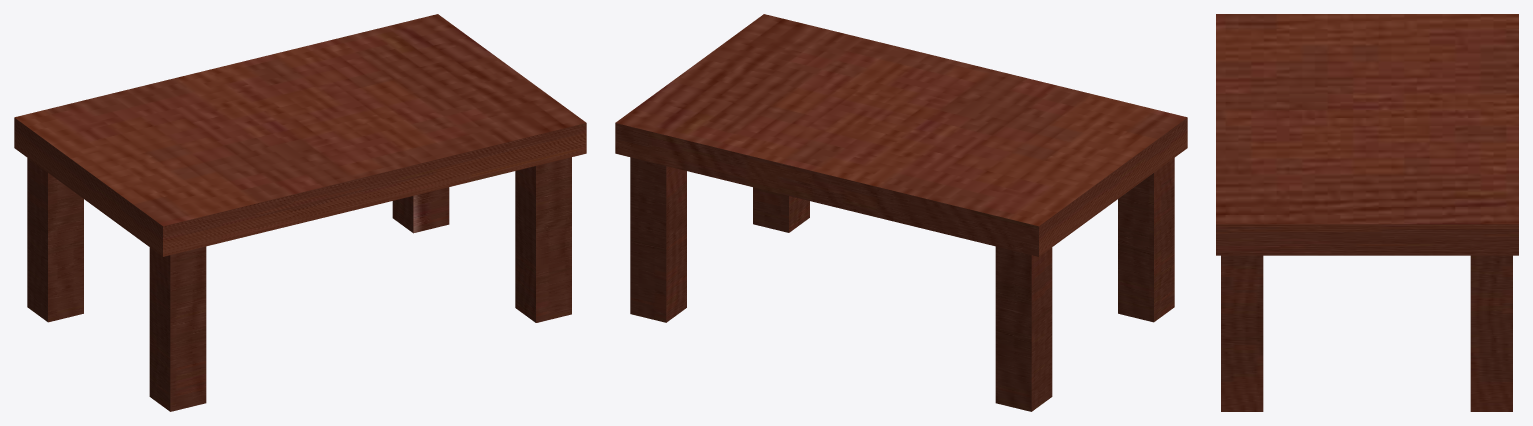
File: table.fbx
3 views of the same model, side by side, from view 1: azimuth 30°, elevation 25°; view 2: azimuth 150°, elevation 25°; view 3: azimuth 270°, elevation 25° (orthographic).
Visible parts, largest first — view 1: Table; view 2: Table; view 3: Table.
Boxes of the visible parts, x1,y1,x2,y2 form: Table: [14, 14, 586, 411]; Table: [615, 14, 1187, 411]; Table: [1216, 14, 1518, 411].
Bounding box in the file's own units: 660 × 283 × 402.
